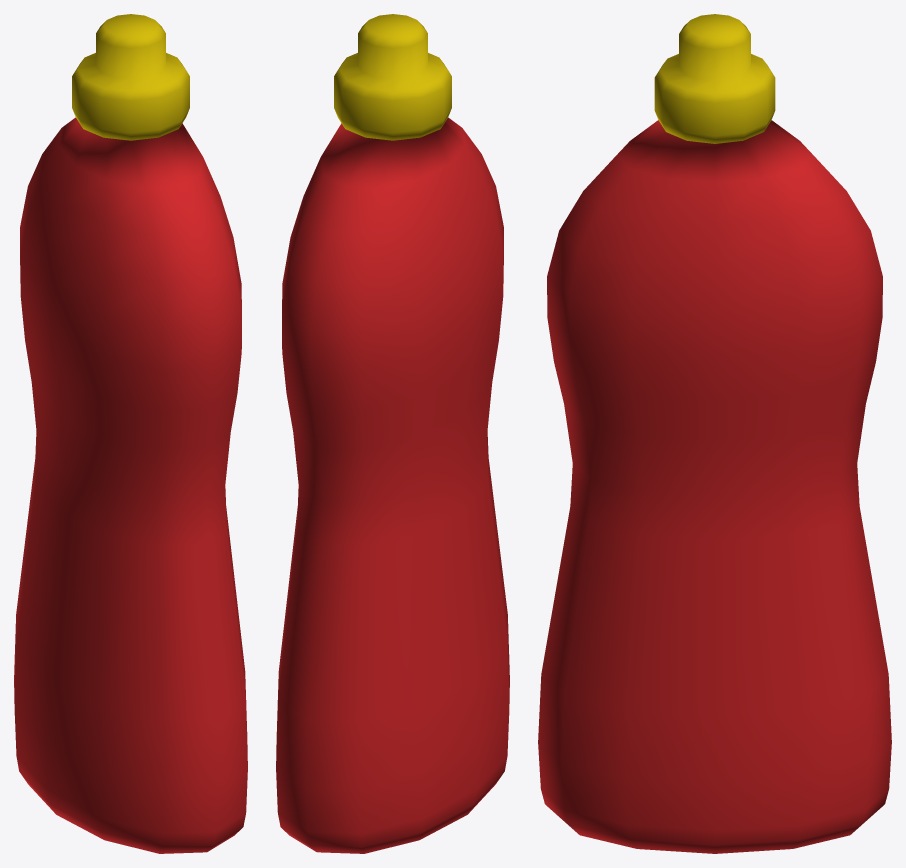
File: MOD_PRO_Washing_liquid.fbx
3 renders of one model, left to right at view 1: azimuth 30°, elevation 25°; view 2: azimuth 150°, elevation 25°; view 3: azimuth 270°, elevation 25°, orthographic. The views are drawn at different scales.
Parts seen in each view (by area): view 1: polySurface1; view 2: polySurface1; view 3: polySurface1.
Part boxes in pixels (x1,y1,x2,y2): polySurface1: [14, 14, 247, 853]; polySurface1: [276, 14, 509, 853]; polySurface1: [538, 14, 891, 853].
Bounding box in the file's own units: 6.82 × 29.71 × 12.05.
